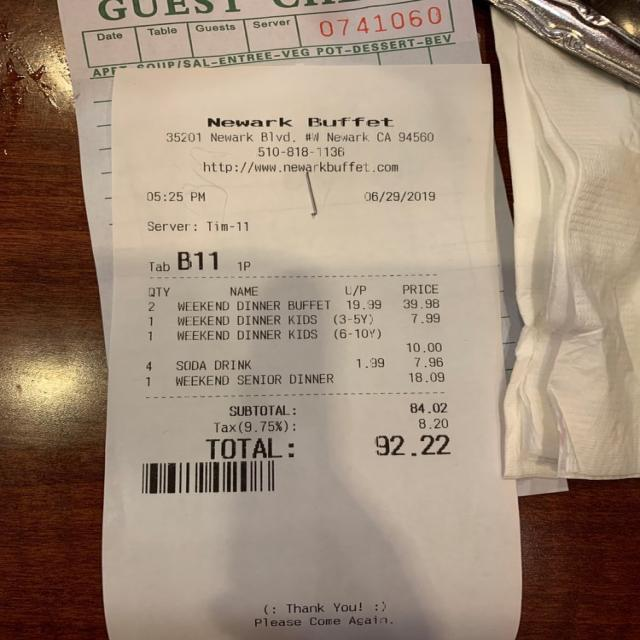TotalPrice: (190, 429, 482, 469)
